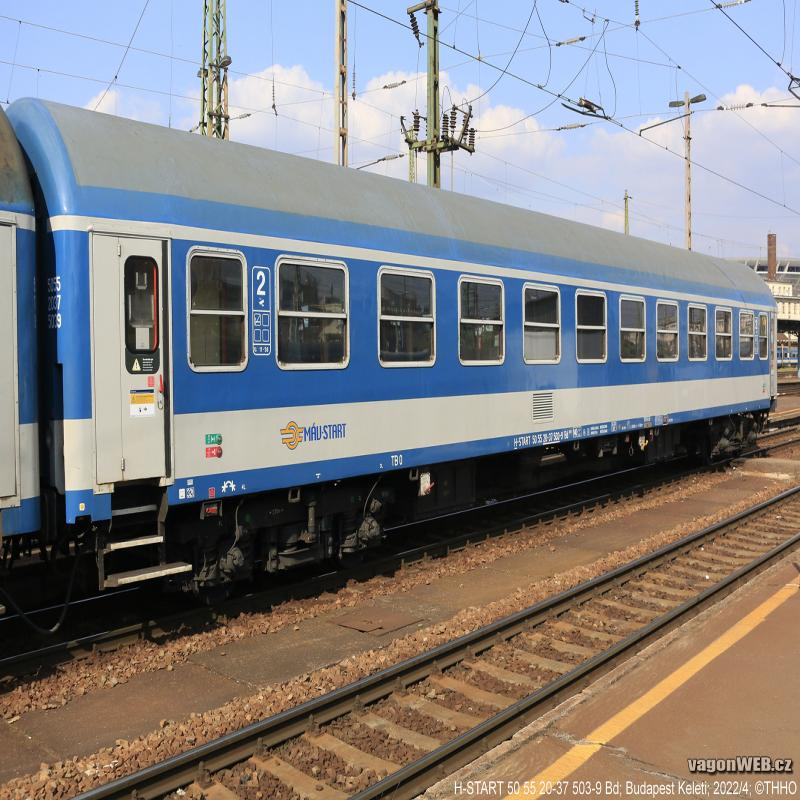train: (12, 98, 778, 642)
